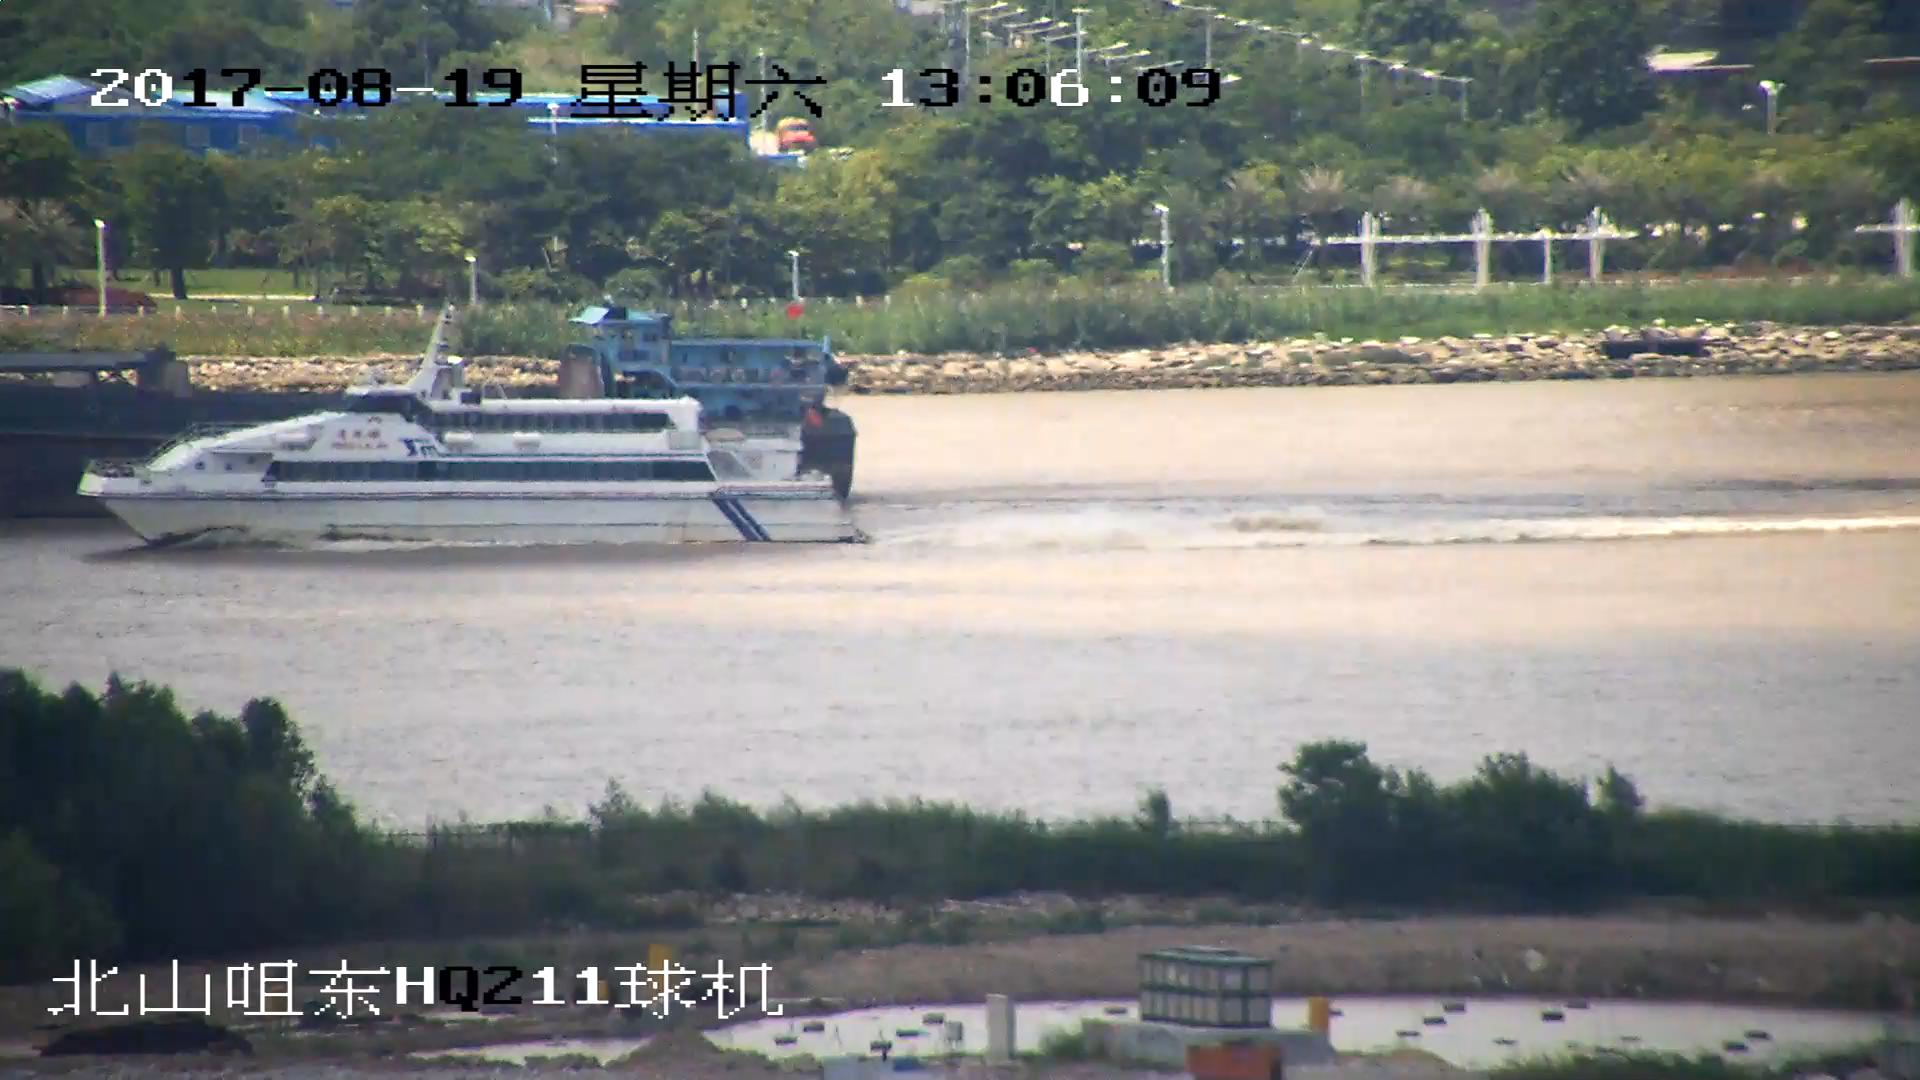bulk cargo carrier: (1, 302, 861, 501)
passenger ship: (79, 306, 866, 550)
